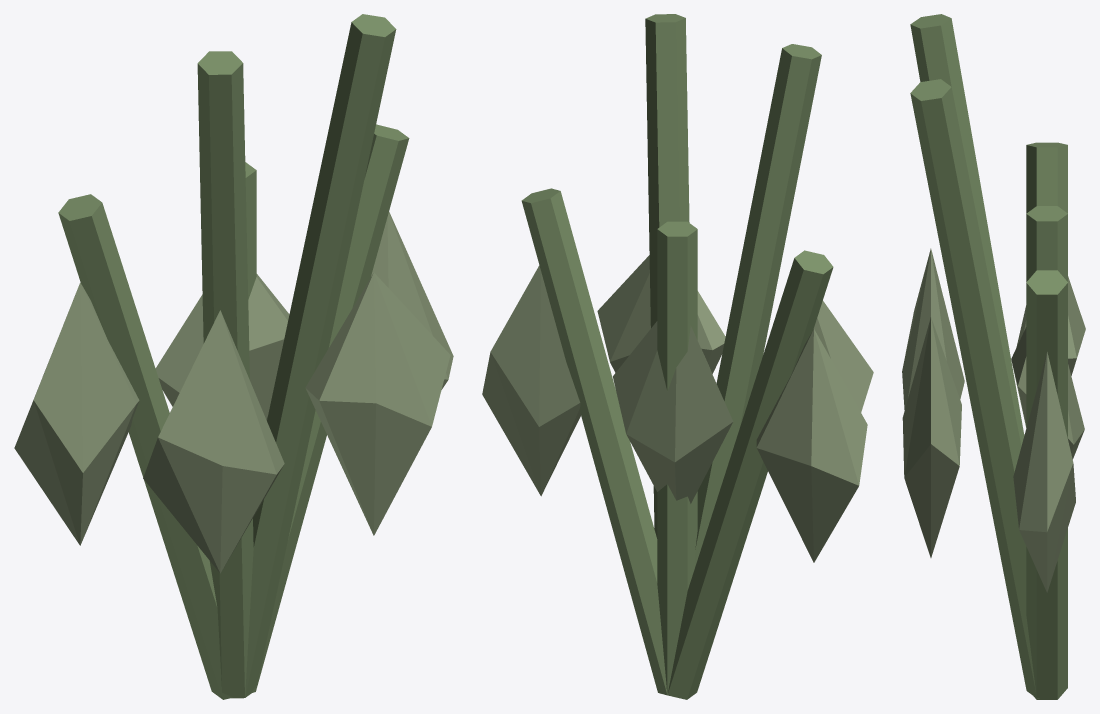
File: grass_dead_clump.glb
3 renders of one model, left to right at view 1: azimuth 30°, elevation 25°; view 2: azimuth 150°, elevation 25°; view 3: azimuth 270°, elevation 25°, orthographic. The views are drawn at different scales.
Visible parts, largest first — view 1: grass_dead_clump; view 2: grass_dead_clump; view 3: grass_dead_clump.
Part boxes in pixels (x1=…): grass_dead_clump: x1=14, y1=14, x2=453, y2=699; grass_dead_clump: x1=482, y1=14, x2=873, y2=699; grass_dead_clump: x1=902, y1=14, x2=1085, y2=699.
Bounding box in the file's own units: 0.3938 × 0.6079 × 0.1582.
